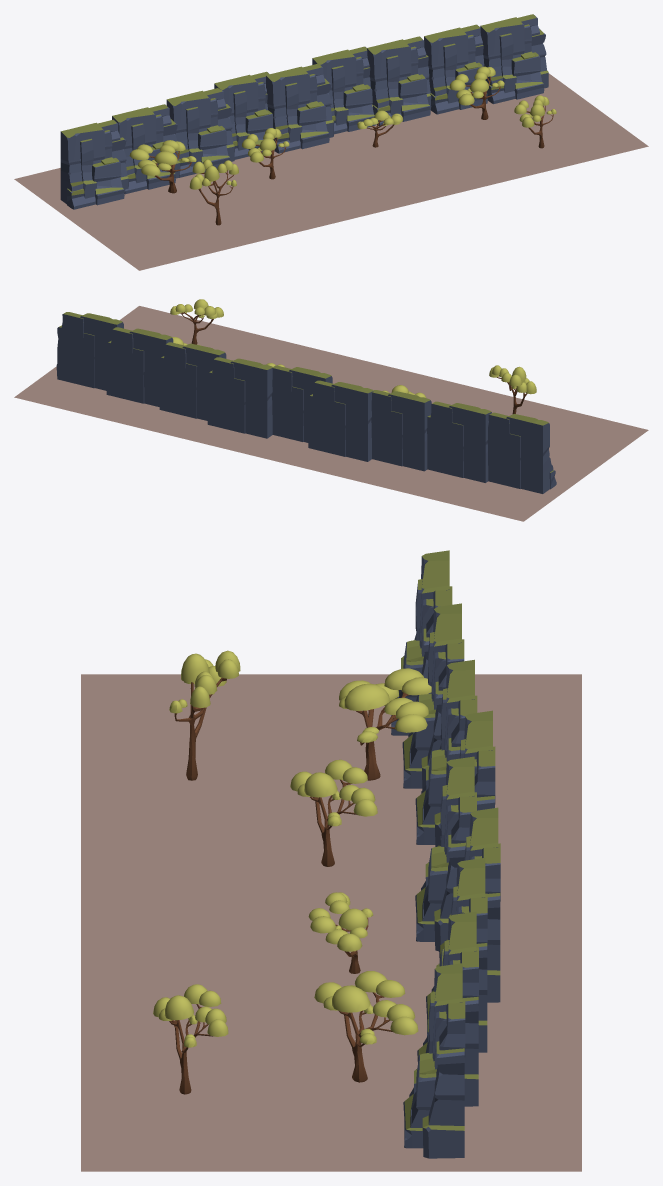
The model's file is all.glb.
The picture shows the model from 3 angles, top to bottom: view 1: azimuth 30°, elevation 25°; view 2: azimuth 150°, elevation 25°; view 3: azimuth 270°, elevation 25°; orthographic projection. The views are drawn at different scales.
Parts seen in each view (by area): view 1: Plane, Cube.034, Cube.030, Cube.026, Cube.028, Cube.032, Cube.029, Cube.027, Cube.033, Cube.031, tree4, tree3 (+4 smaller); view 2: Plane, Cube.027, Cube.034, Cube.031, Cube.033, Cube.032, Cube.029, Cube.030, Cube.028, Cube.026, tree3, tree2; view 3: Plane, Cube.030, Cube.026, Cube.032, Cube.033, tree4, tree5, Cube.029, Cube.027, tree1, Cube.034, Cube.028 (+4 smaller).
Part boxes in pixels (left/top/right/bottom): Plane: left=14, top=73, right=648, bottom=270; Cube.034: left=60, top=119, right=128, bottom=209; Cube.030: left=480, top=14, right=548, bottom=104; Cube.026: left=266, top=64, right=333, bottom=153; Cube.028: left=367, top=36, right=431, bottom=125; Cube.032: left=166, top=88, right=234, bottom=177; Cube.029: left=424, top=24, right=487, bottom=114; Cube.027: left=312, top=46, right=375, bottom=134; Cube.033: left=112, top=104, right=180, bottom=194; Cube.031: left=214, top=71, right=274, bottom=159; tree4: left=129, top=140, right=196, bottom=193; tree3: left=189, top=159, right=238, bottom=225; Plane: left=14, top=306, right=648, bottom=521; Cube.027: left=207, top=357, right=272, bottom=438; Cube.034: left=487, top=412, right=556, bottom=493; Cube.031: left=307, top=380, right=373, bottom=461; Cube.033: left=427, top=401, right=491, bottom=482; Cube.032: left=371, top=390, right=431, bottom=471; Cube.029: left=106, top=327, right=173, bottom=406; Cube.030: left=56, top=312, right=123, bottom=390; Cube.028: left=159, top=342, right=226, bottom=420; Cube.026: left=271, top=365, right=332, bottom=442; tree3: left=489, top=365, right=536, bottom=413; tree2: left=170, top=299, right=223, bottom=344; Plane: left=81, top=674, right=581, bottom=1171; Cube.030: left=403, top=963, right=465, bottom=1158; Cube.026: left=415, top=756, right=476, bottom=951; Cube.032: left=415, top=659, right=477, bottom=846; Cube.033: left=402, top=603, right=464, bottom=789; tree4: left=339, top=668, right=431, bottom=780; tree5: left=314, top=971, right=418, bottom=1082; Cube.029: left=417, top=911, right=478, bottom=1106; Cube.027: left=439, top=807, right=500, bottom=1002; tree1: left=290, top=759, right=377, bottom=866; Cube.034: left=391, top=550, right=452, bottom=735; Cube.028: left=426, top=858, right=487, bottom=1052.
Bounding box in the file's own units: 65.2 × 8.7 × 27.77.
